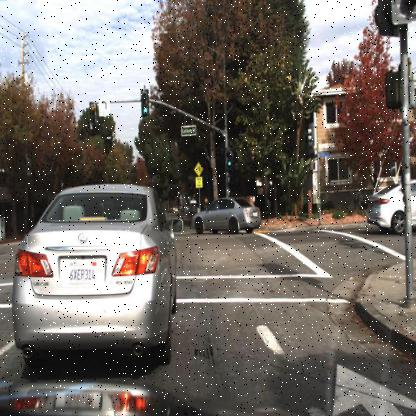car: (10, 184, 178, 364), (189, 195, 264, 236), (366, 176, 415, 238)
trafficLight: (141, 91, 151, 125)
trafficLight-Green: (224, 150, 234, 177)
trafficLight-RedLeft: (87, 105, 98, 139)
